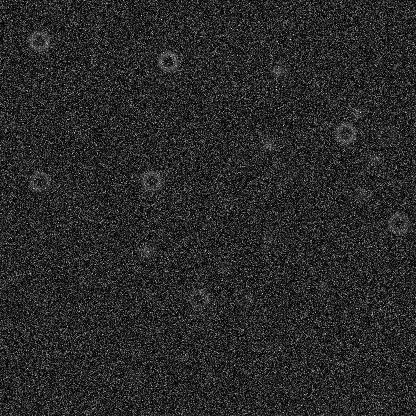Ring: (27, 169, 51, 193), (374, 123, 398, 147), (186, 286, 210, 310), (333, 121, 357, 145), (155, 49, 179, 73), (26, 28, 50, 52), (19, 155, 43, 179), (139, 168, 163, 192), (385, 211, 409, 235)
Spot: (353, 184, 369, 200), (256, 236, 272, 252), (240, 290, 256, 306), (35, 290, 51, 306), (349, 104, 365, 120), (269, 63, 285, 79), (314, 278, 330, 294), (138, 243, 154, 259), (217, 258, 233, 274), (365, 151, 381, 167), (260, 136, 276, 152), (165, 75, 181, 91), (127, 366, 143, 382)
